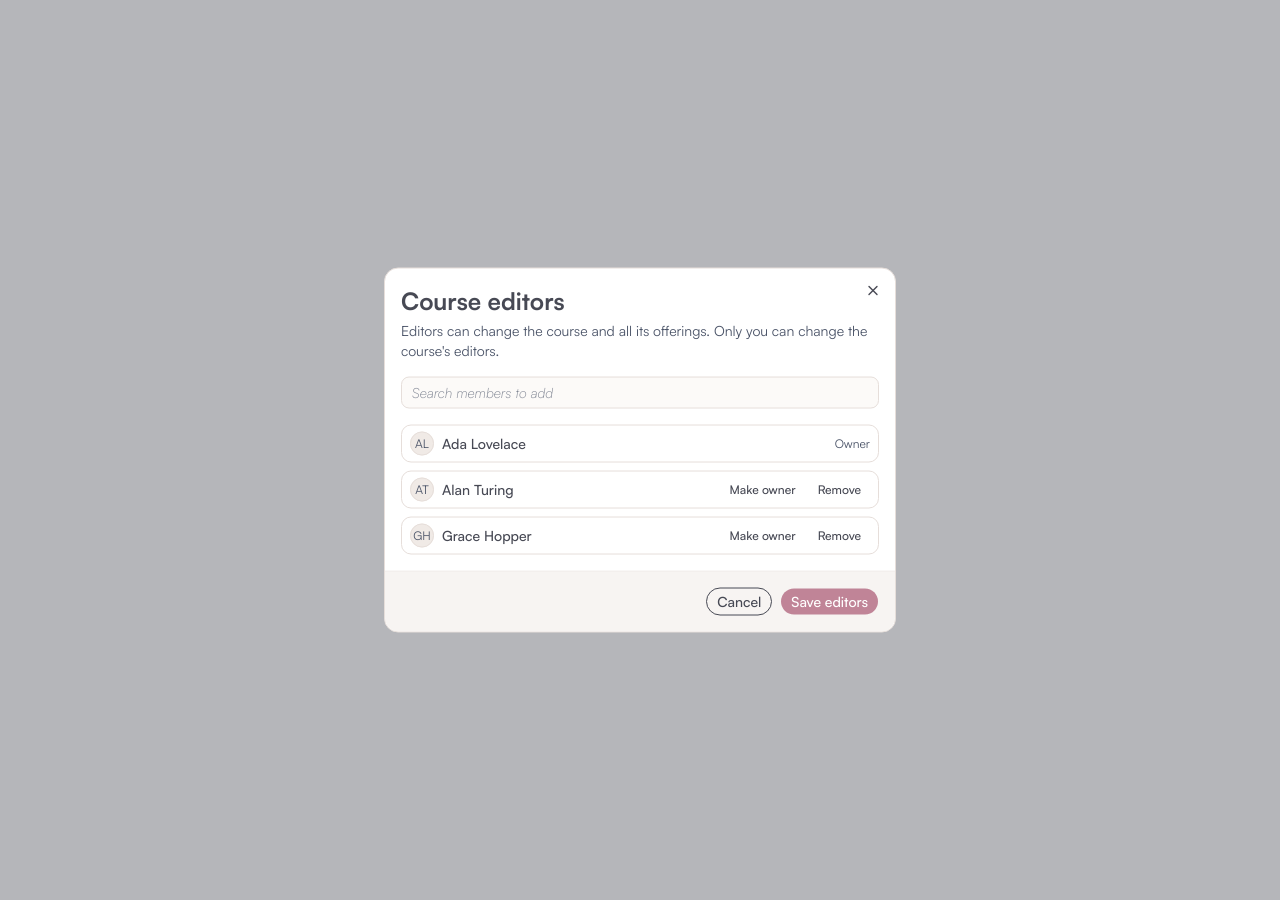
ManageEditorsDialog › locks the editor list while a transfer waits to be confirmed
This screenshot has width=1280, height=900.
Click the button with aria-label "Make Alan Turing the owner" at (763, 490), box [720,478,805,502]
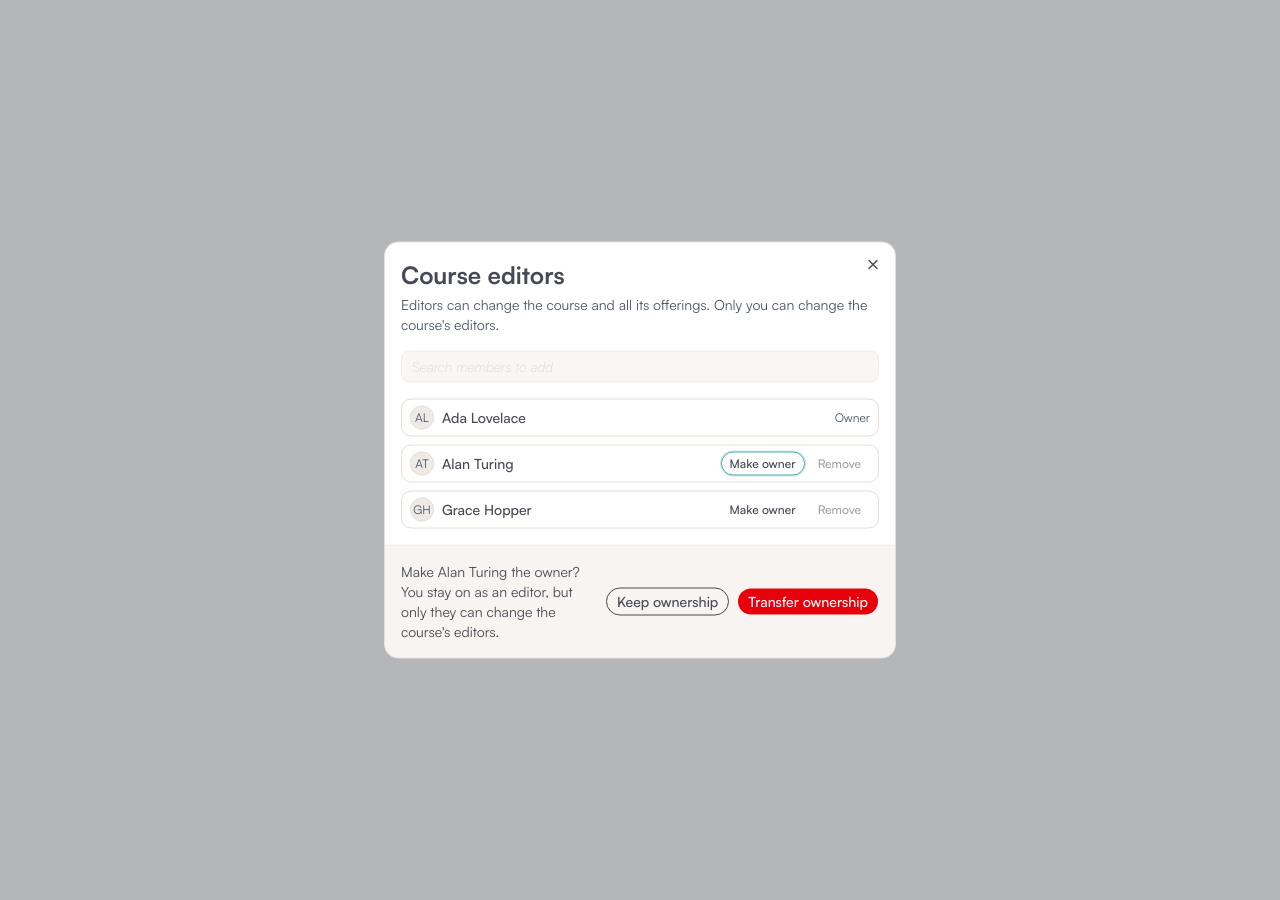
Check: the button with aria-label "Remove Grace Hopper" is disabled, box [809,498,870,522]
Check: the dropdown named "Add an editor" is disabled, box [402,350,878,382]
